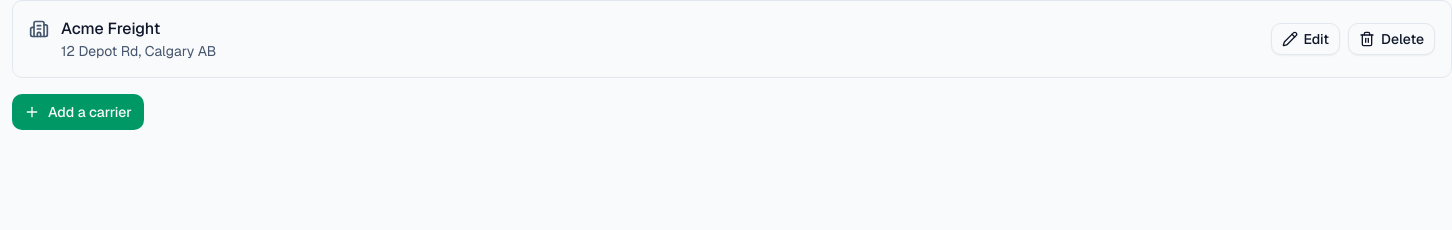
CarrierList › edits a carrier's address
The width and height of the screenshot is (1452, 230).
Later steps or results of the test are not shown.
Step 1. Click the button with aria-label "Edit Acme Freight" → (1305, 39), box top-left (1271, 23), bottom-right (1340, 55)
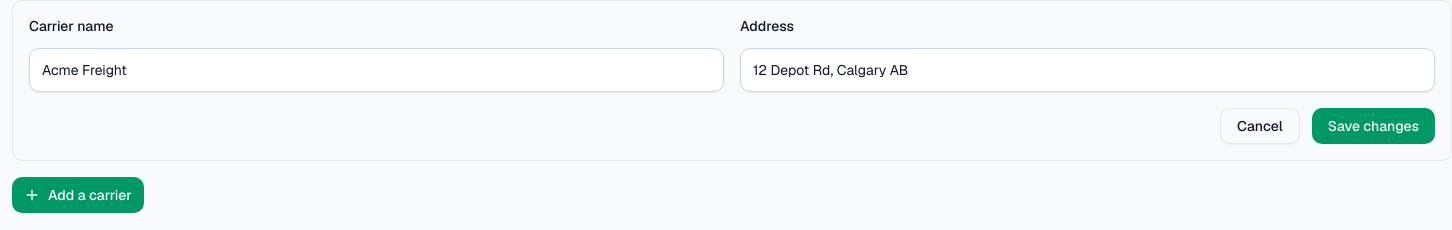
Result: the field labelled "Carrier name" holds "Acme Freight" at top-left (29, 48), bottom-right (724, 92)
Result: the field labelled "Address" holds "12 Depot Rd, Calgary AB" at top-left (740, 48), bottom-right (1435, 92)
